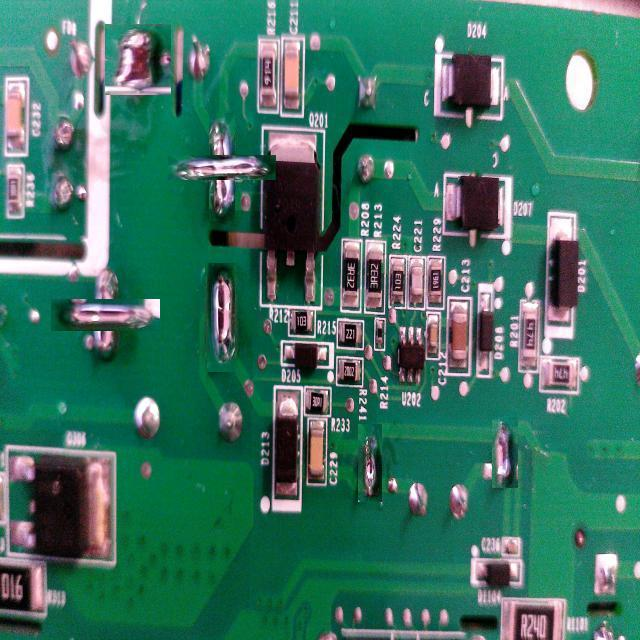Short_circuit: (70, 280, 140, 350), (104, 24, 172, 94), (188, 134, 256, 201), (206, 262, 236, 372), (358, 424, 382, 502), (492, 417, 518, 488)
